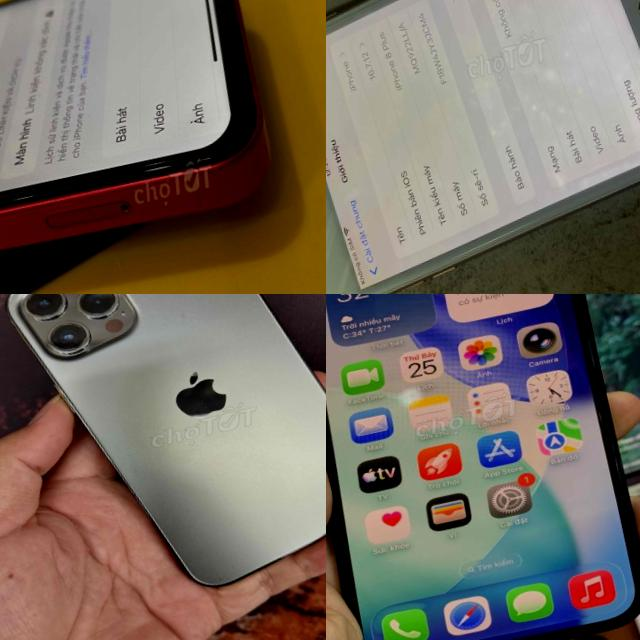scratch: (625, 0, 640, 47)
